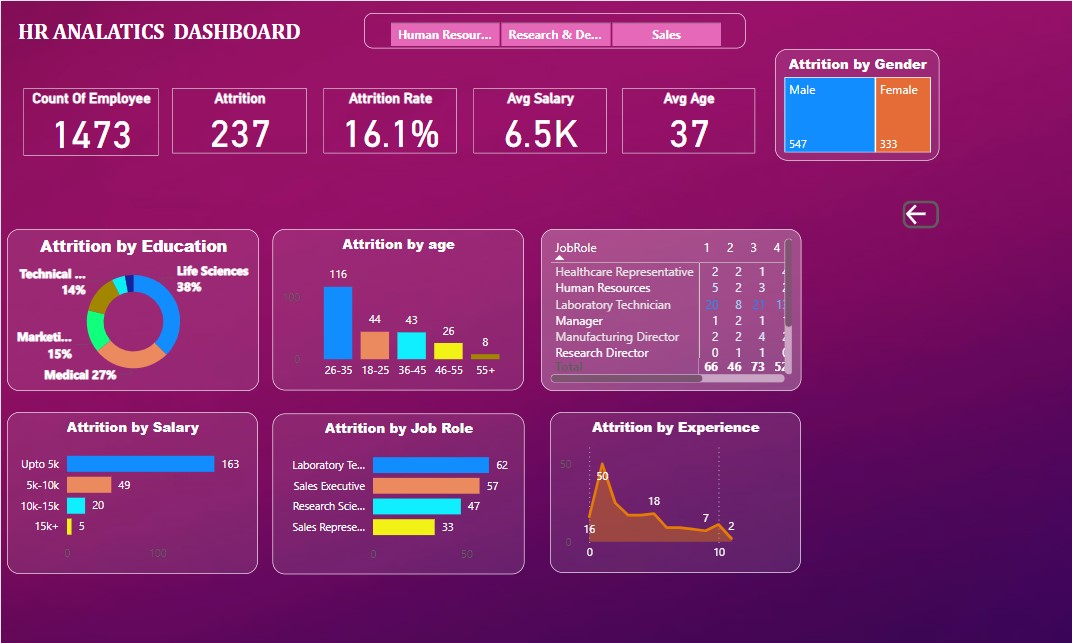

What the dashboard file says about the page in this screenshot:
{"tool":"powerbi","page":{"name":"Page 1","canvas":[1280,720],"ordinal":0},"visuals":[{"type":"card","title":"Count Of Employee","fields":{"Values":["CountNonNull(HR_Analytics.EmpID)"]},"box":[25,96.9,150,75],"z":0},{"type":"card","title":"Attrition","fields":{"Values":["Sum(HR_Analytics.AttritionCount)"]},"box":[189.6,96.9,150,72.9],"z":1000},{"type":"card","title":"Attrition Rate","fields":{"Values":["HR_Analytics.Attrition Rate"]},"box":[358.3,96.9,147.9,72.9],"z":2000},{"type":"card","title":"Avg Salary","fields":{"Values":["Avg(HR_Analytics.MonthlyIncome)"]},"box":[525,96.9,147.9,72.9],"z":3000},{"type":"card","title":"Avg Age","fields":{"Values":["Avg(HR_Analytics.Age)"]},"box":[689.6,96.9,147.9,72.9],"z":4000},{"type":"donutChart","title":"Attribution by Education","fields":{"Category":["HR_Analytics.EducationField"],"Y":["Sum(HR_Analytics.AttritionCount)"]},"box":[6.8,254.1,279.7,179.7],"z":5000},{"type":"clusteredColumnChart","title":"Attribution by age","fields":{"Category":["HR_Analytics.AgeGroup"],"Y":["Sum(HR_Analytics.AttritionCount)"]},"box":[301.4,254.1,279,179],"z":6000},{"type":"pivotTable","fields":{"Rows":["HR_Analytics.JobRole"],"Columns":["HR_Analytics.JobSatisfaction"],"Values":["Sum(HR_Analytics.AttritionCount)"]},"box":[600,252.7,289,179.7],"z":7000},{"type":"barChart","title":"Attribution by Salary","fields":{"Category":["HR_Analytics.SalarySlab"],"Y":["Sum(HR_Analytics.AttritionCount)"]},"box":[6.8,456.8,278.4,179.7],"z":8000},{"type":"barChart","title":"Attribution by Job Role","fields":{"Y":["Sum(HR_Analytics.AttritionCount)"],"Category":["HR_Analytics.JobRole"]},"box":[301.4,458.1,279.7,178.4],"z":9000},{"type":"areaChart","title":"Attribution by Experience","fields":{"Category":["HR_Analytics.YearsAtCompany"],"Y":["Sum(HR_Analytics.AttritionCount)"]},"box":[610.8,456.8,278.4,178.4],"z":10000},{"type":"treemap","title":"Attribution by Gender","fields":{"Values":["CountNonNull(HR_Analytics.AttritionCount)"],"Group":["HR_Analytics.Gender"]},"box":[859.5,52.7,182.4,124.3],"z":11000},{"type":"slicer","fields":{"Values":["HR_Analytics.Department"]},"box":[402.7,13.5,424.3,39.2],"z":12000},{"type":"textbox","box":[12.2,13.5,328.4,43.2],"z":13000},{"type":"actionButton","box":[1001.4,221.6,40.5,31.1],"z":14000}]}

Visuals, with their boxes on the page's 1280x720 design canvas (x1, y1, x2, y2). These are canvas units, not pixel positions in the 1072x643 screenshot, which may show the page scaled, cropped or inside an application window:
"Count Of Employee" card: {"left": 25, "top": 97, "right": 175, "bottom": 172}
"Attrition" card: {"left": 190, "top": 97, "right": 340, "bottom": 170}
"Attrition Rate" card: {"left": 358, "top": 97, "right": 506, "bottom": 170}
"Avg Salary" card: {"left": 525, "top": 97, "right": 673, "bottom": 170}
"Avg Age" card: {"left": 690, "top": 97, "right": 838, "bottom": 170}
"Attribution by Education" donutChart: {"left": 7, "top": 254, "right": 286, "bottom": 434}
"Attribution by age" clusteredColumnChart: {"left": 301, "top": 254, "right": 580, "bottom": 433}
pivotTable - HR_Analytics.JobRole x HR_Analytics.JobSatisfaction: {"left": 600, "top": 253, "right": 889, "bottom": 432}
"Attribution by Salary" barChart: {"left": 7, "top": 457, "right": 285, "bottom": 636}
"Attribution by Job Role" barChart: {"left": 301, "top": 458, "right": 581, "bottom": 636}
"Attribution by Experience" areaChart: {"left": 611, "top": 457, "right": 889, "bottom": 635}
"Attribution by Gender" treemap: {"left": 860, "top": 53, "right": 1042, "bottom": 177}
slicer - HR_Analytics.Department: {"left": 403, "top": 14, "right": 827, "bottom": 53}
textbox: {"left": 12, "top": 14, "right": 341, "bottom": 57}
actionButton: {"left": 1001, "top": 222, "right": 1042, "bottom": 253}
